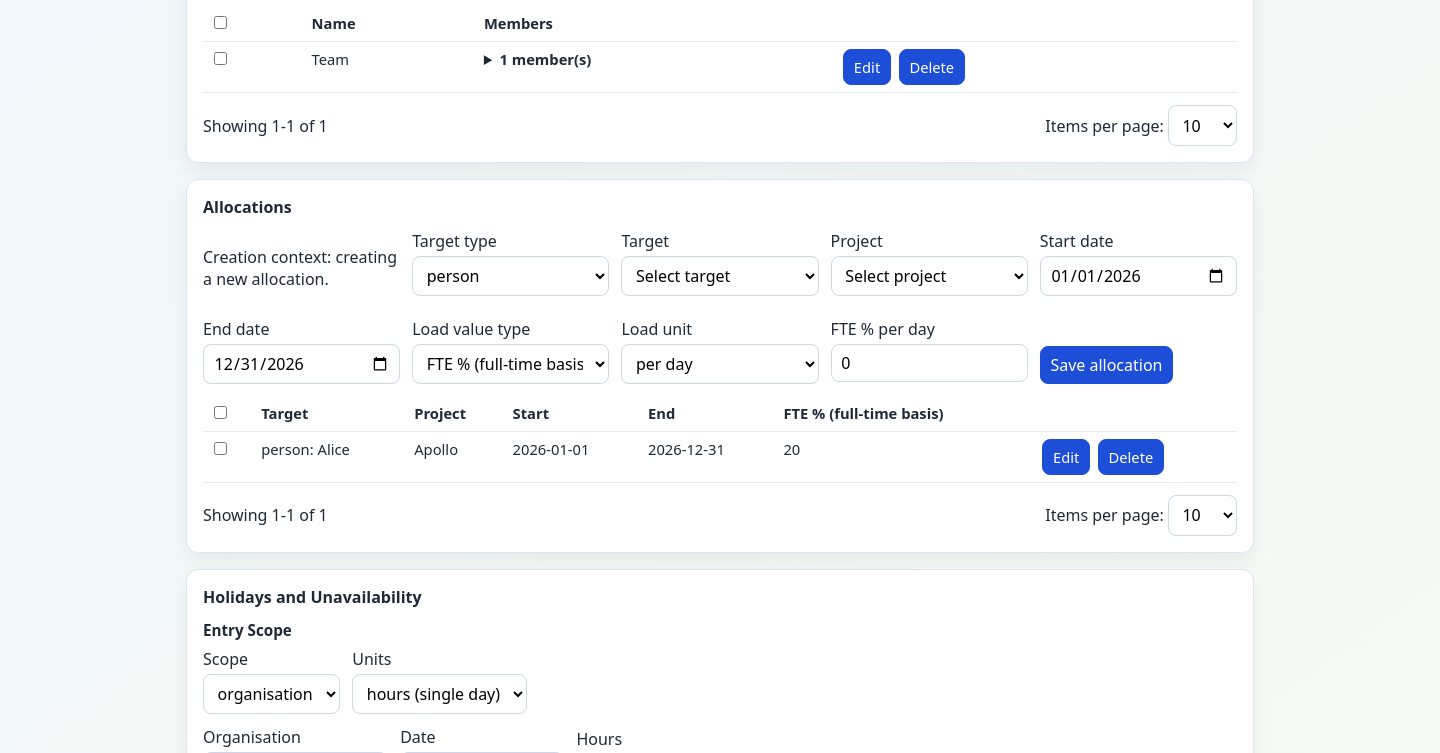
App focused behaviors › requires selecting at least one user before saving an allocation
The image size is (1440, 753).
(page scrolled)
Check: the element "Allocations" is shown, box top-left (186, 179), bottom-right (1254, 553)
Click the button "Save allocation" at x=1106, y=365, box top-left (1040, 346), bottom-right (1173, 384)
(page scrolled)
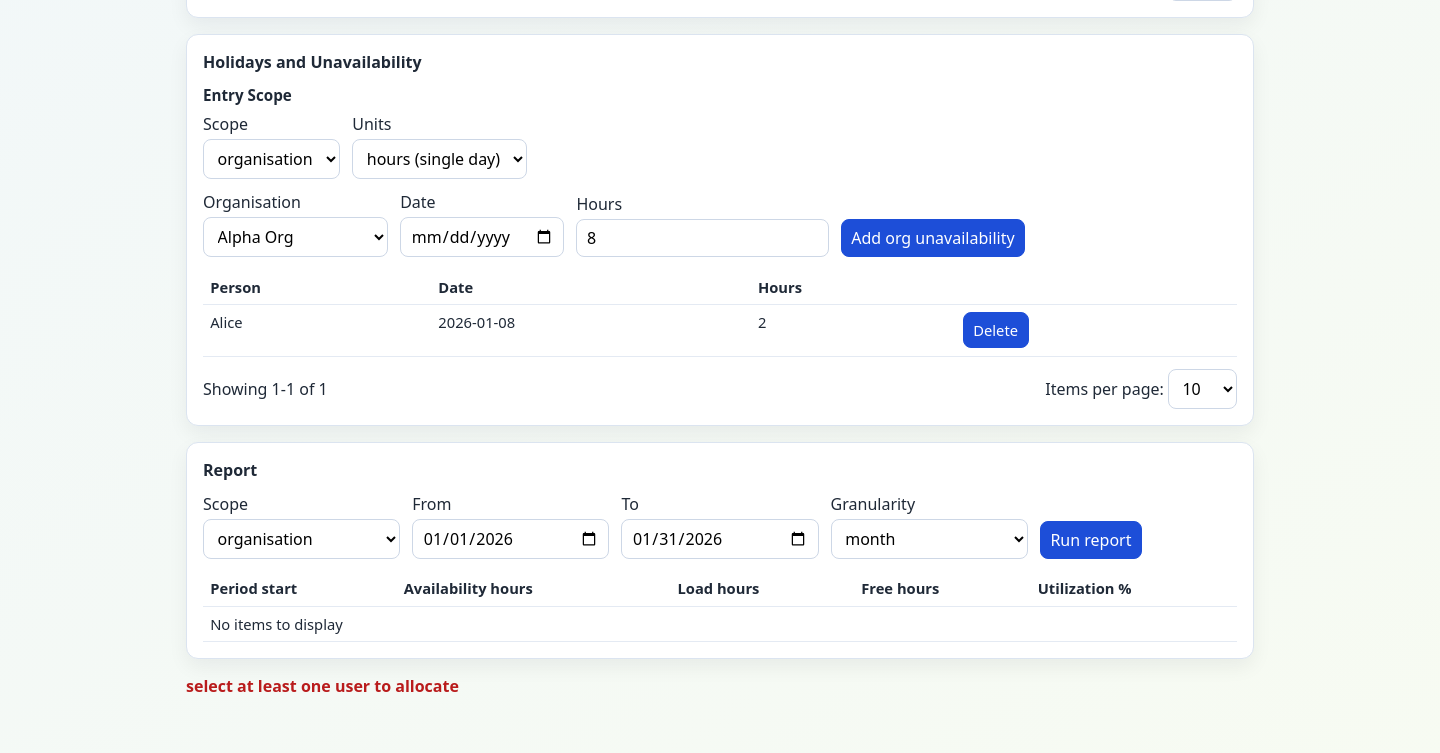
Check: the message reads "select at least one user to allocate", box top-left (186, 675), bottom-right (459, 697)
